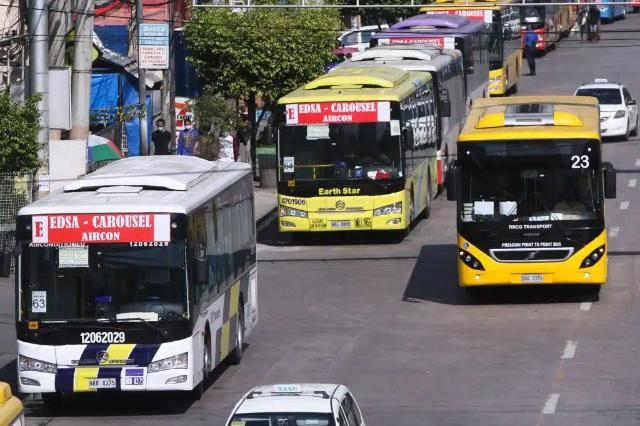bus: (16, 157, 259, 395), (449, 94, 616, 290), (278, 66, 433, 234), (343, 43, 466, 85), (467, 7, 522, 92), (379, 15, 491, 56), (520, 0, 576, 54)
car: (572, 81, 638, 141)
